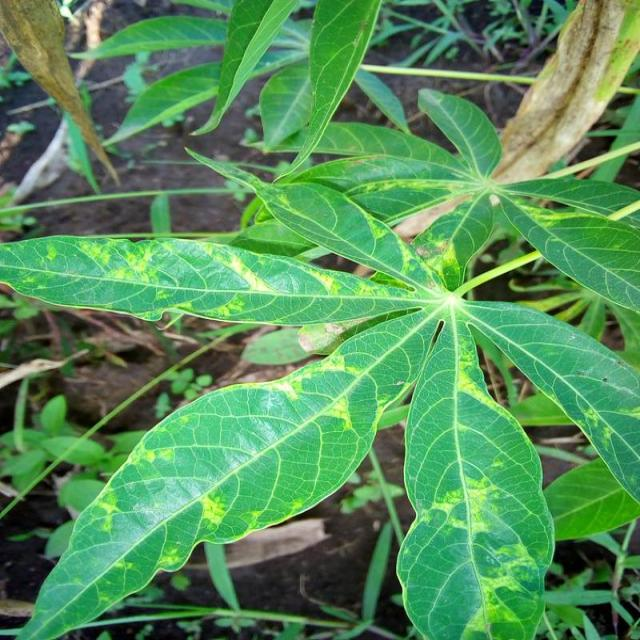Mosaico: (23, 225, 593, 588), (360, 106, 599, 294)
